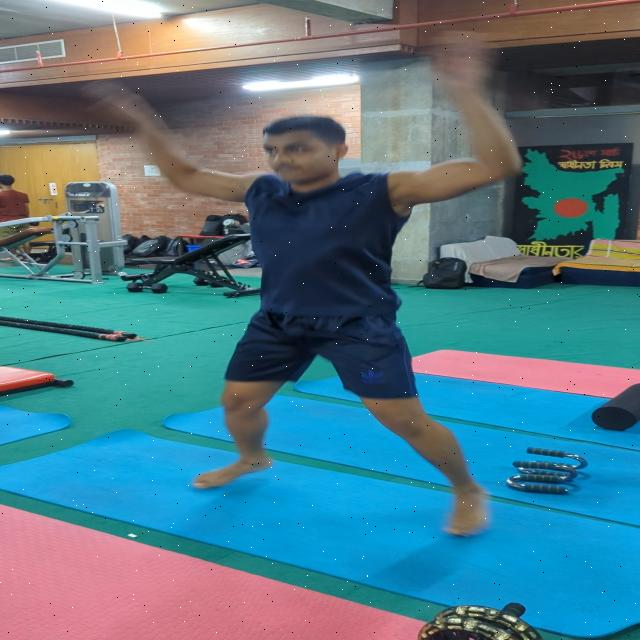Normal_JumpingJacks: (140, 86, 547, 546)
